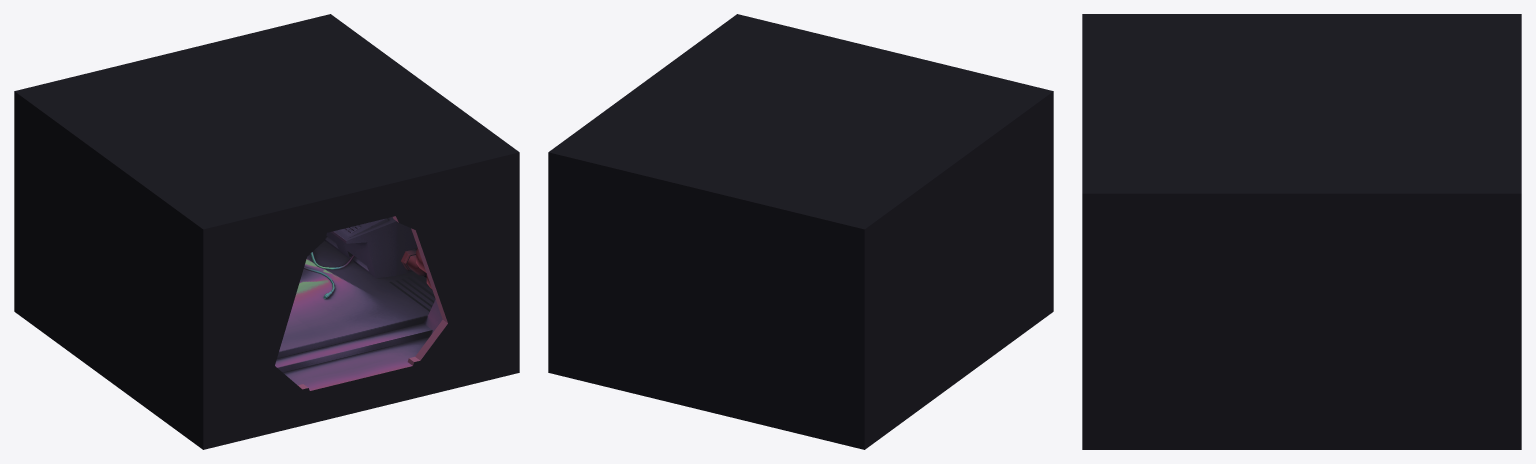
File: mod_special_END.glb
3 views of the same model, side by side, from view 1: azimuth 30°, elevation 25°; view 2: azimuth 150°, elevation 25°; view 3: azimuth 270°, elevation 25° (orthographic). The views are drawn at different scales.
Visible parts, largest first — view 1: EndRoom; view 2: EndRoom; view 3: EndRoom.
Boxes of the visible parts, left/top/right/bottom form: EndRoom: left=14, top=14, right=519, bottom=449; EndRoom: left=548, top=14, right=1053, bottom=449; EndRoom: left=1082, top=14, right=1521, bottom=449.
Bounding box in the file's own units: 5.8 × 3.86 × 6.
12 materials, 12 textured.
